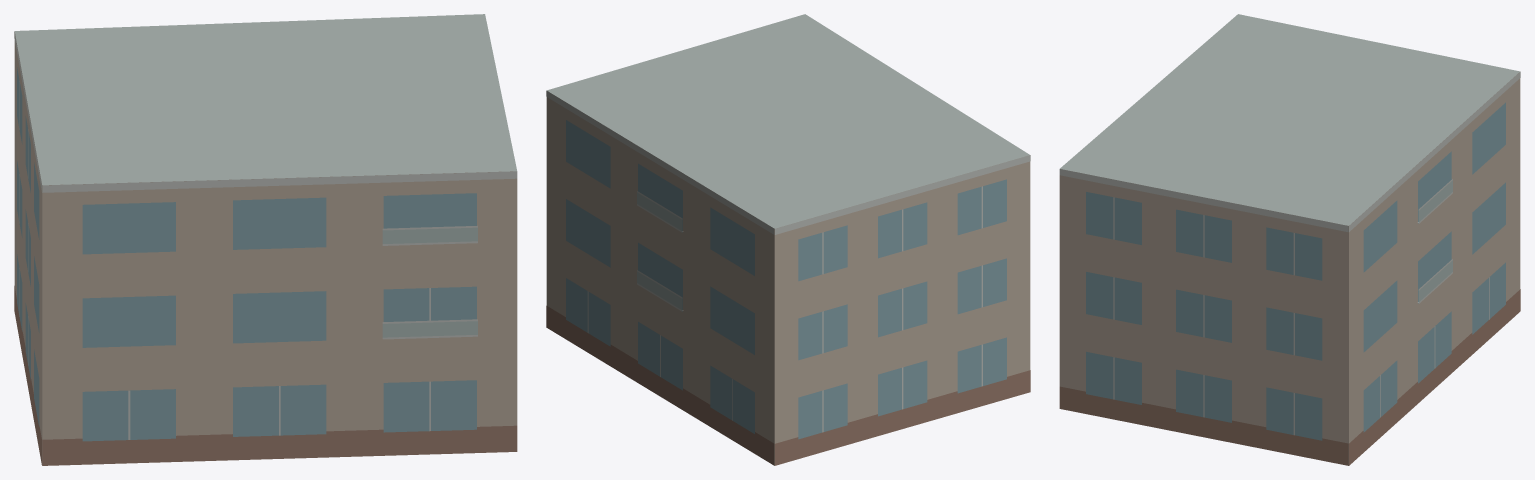
The model's file is survey-upis-32844472.glb.
3 renders of one model, left to right at view 1: azimuth 30°, elevation 25°; view 2: azimuth 150°, elevation 25°; view 3: azimuth 270°, elevation 25°, orthographic. The views are drawn at different scales.
Parts seen in each view (by area): view 1: survey-upis-32844472.tmp; view 2: survey-upis-32844472.tmp; view 3: survey-upis-32844472.tmp.
Boxes of the visible parts, x1,y1,x2,y2 form: survey-upis-32844472.tmp: (14,14,517,465); survey-upis-32844472.tmp: (546,14,1030,465); survey-upis-32844472.tmp: (1059,14,1520,465).
Size of the model in its own units: 17.24 by 9.1 by 15.85.
